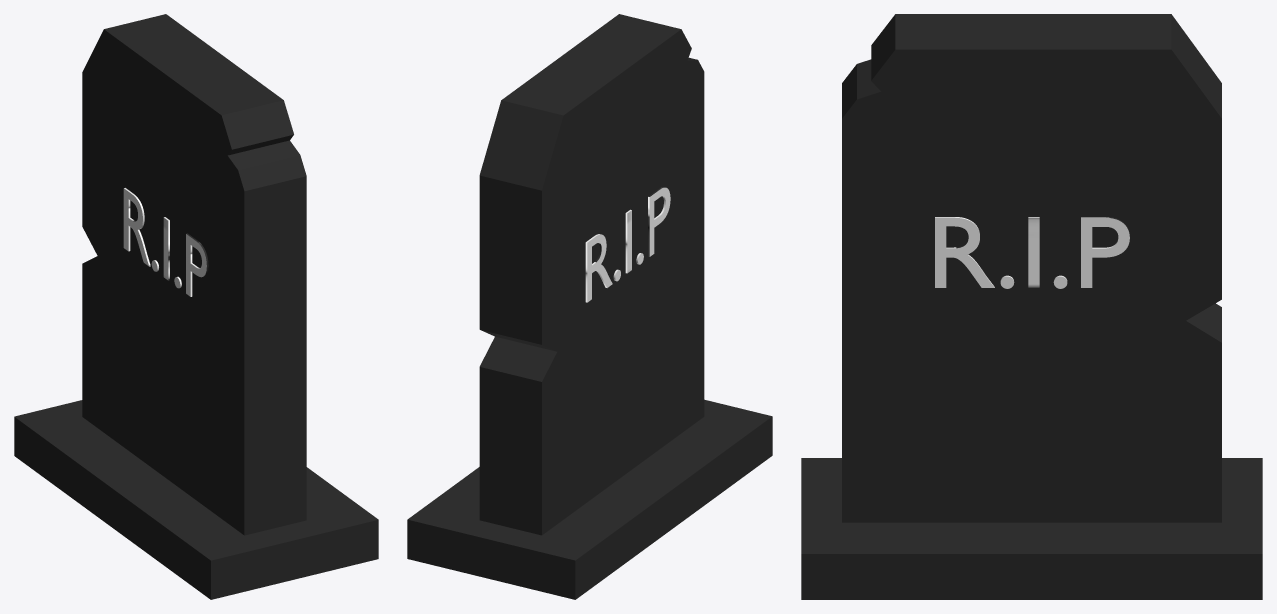
File: tumba.obj
3 views of the same model, side by side, from view 1: azimuth 30°, elevation 25°; view 2: azimuth 150°, elevation 25°; view 3: azimuth 270°, elevation 25° (orthographic). The views are drawn at different scales.
Visible parts, largest first — view 1: Lapida; view 2: Lapida; view 3: Lapida.
Part boxes in pixels (bbox=[...]): Lapida: bbox=[14, 14, 378, 599]; Lapida: bbox=[407, 14, 772, 599]; Lapida: bbox=[801, 14, 1262, 599].
Size of the model in its own units: 2 by 5.04 by 4.06.
1 material, 1 textured.
